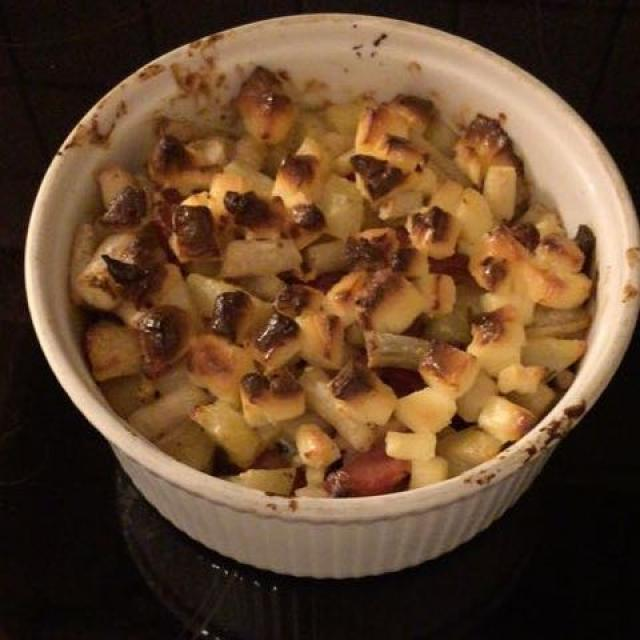potatoes: (82, 79, 587, 490)
